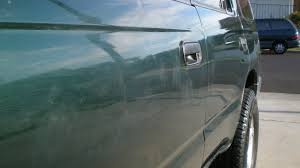Scratch: (163, 55, 195, 99)
